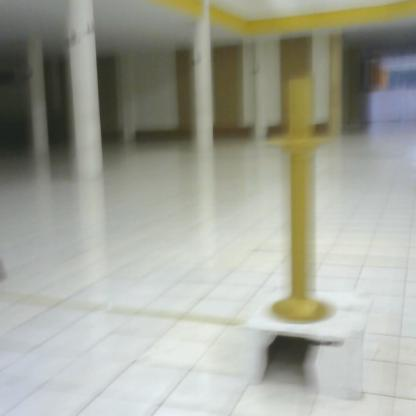pole: (261, 75, 339, 338)
